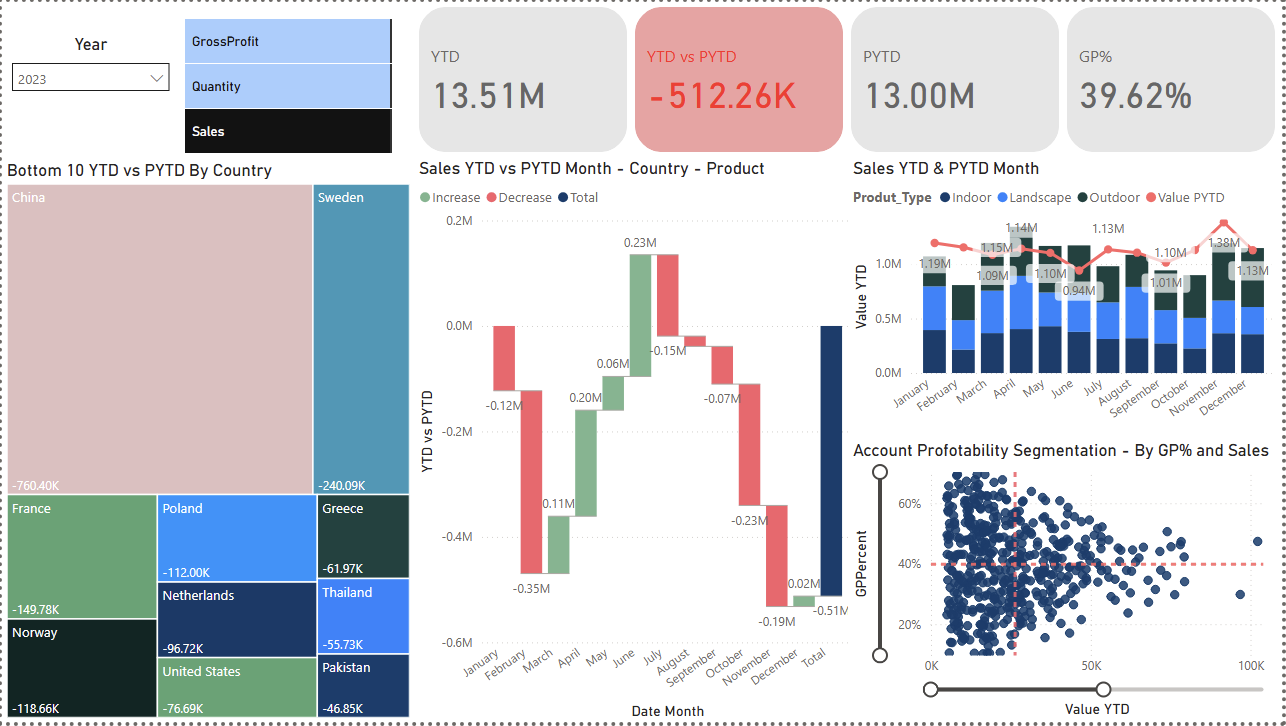

What the dashboard file says about the page in this screenshot:
{"tool":"powerbi","page":{"name":"Page 1","canvas":[1280,720],"ordinal":0},"visuals":[{"type":"cardVisual","fields":{"Data":["_Measure.Switch_PYTD","_Measure.YTD vs PYTD","_Measure.Switch_YTD","_Measure.GPPercent"]},"box":[412.5,0,867.5,155],"z":0},{"type":"advancedSlicerVisual","fields":{"Values":["Slc_Values.Values"]},"box":[177.5,12.5,217.5,145],"z":1000},{"type":"slicer","title":"Year","fields":{"Values":["Dim_Date.Date.Variation.Date Hierarchy.Year"]},"box":[0,32.5,177.5,87.5],"z":2000},{"type":"treemap","title":"Bottom 10 YTD vs PYTD By Country","fields":{"Values":["_Measure.YTD vs PYTD"],"Group":["DIM-Account.country"]},"box":[0,157.5,412.5,562.5],"z":3000},{"type":"waterfallChart","fields":{"Y":["_Measure.YTD vs PYTD"],"Category":["Dim_Date.Date.Variation.Date Hierarchy.Month","DIM-Account.country","DIM_Product.Produt_Type","DIM_Product.Product_Name_id"]},"box":[412.9,155.7,444.3,565.7],"z":4000},{"type":"lineStackedColumnComboChart","fields":{"Y":["_Measure.Switch_YTD"],"Y2":["_Measure.Switch_PYTD"],"Category":["Dim_Date.Date.Variation.Date Hierarchy.Quarter","Dim_Date.Date.Variation.Date Hierarchy.Month"],"Series":["DIM_Product.Produt_Type"]},"box":[845.7,155.7,432.9,282.9],"z":5000},{"type":"scatterChart","fields":{"Y":["_Measure.GPPercent"],"X":["_Measure.Switch_YTD"],"Category":["DIM-Account.Account"]},"box":[845.7,438.6,434.3,281.4],"z":6000}]}

Visuals, with their boxes in screenshot pixels (x1, y1, x2, y2), scaled from the page's 1280x720 canvas onto the 1286x726 screenshot:
cardVisual - _Measure.Switch_PYTD x _Measure.YTD vs PYTD: BBox(414, 0, 1285, 156)
advancedSlicerVisual - Slc_Values.Values: BBox(178, 13, 397, 159)
"Year" slicer: BBox(0, 33, 178, 121)
"Bottom 10 YTD vs PYTD By Country" treemap: BBox(0, 159, 414, 725)
waterfallChart - _Measure.YTD vs PYTD x Dim_Date.Date.Variation.Date Hierarchy.Month: BBox(415, 157, 861, 725)
lineStackedColumnComboChart - _Measure.Switch_YTD x _Measure.Switch_PYTD: BBox(850, 157, 1285, 442)
scatterChart - _Measure.GPPercent x _Measure.Switch_YTD: BBox(850, 442, 1285, 725)
